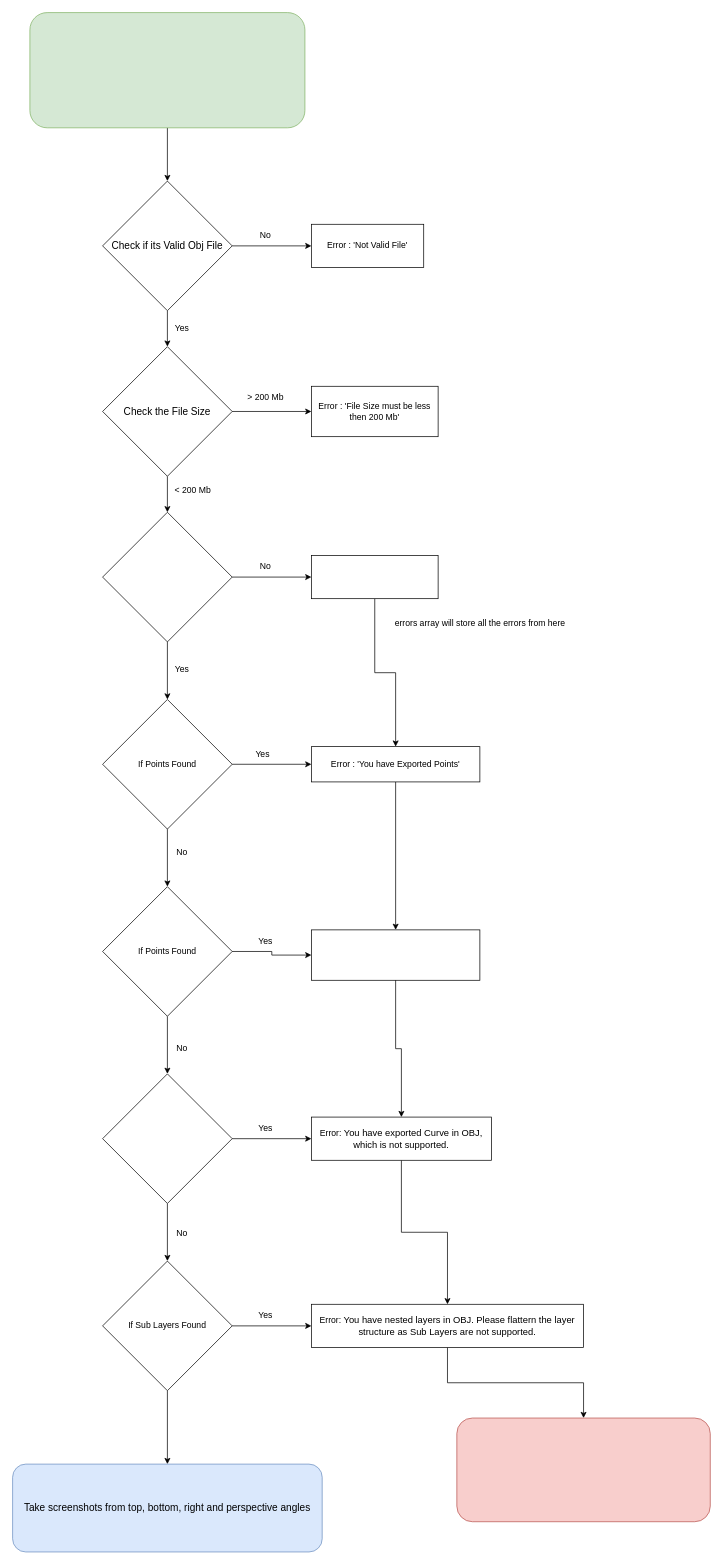
The diagram is 723 pixels wide and 1565 high, and some of its shapes have lost their labels. Each missing label, with the box of its shape:
Check Layer are Available Or not: (102, 512, 232, 642)
Error : 'Please Export Layer Name': (311, 555, 438, 599)
Error: You have exported Points in OBJ, which is not supported.: (311, 929, 480, 980)
Errors Will be Displayed.: (456, 1417, 710, 1522)
If Curve Found: (102, 1073, 232, 1203)
OBJ VALIDATION: (29, 12, 305, 128)
